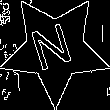N_S: (29, 19, 81, 80)
